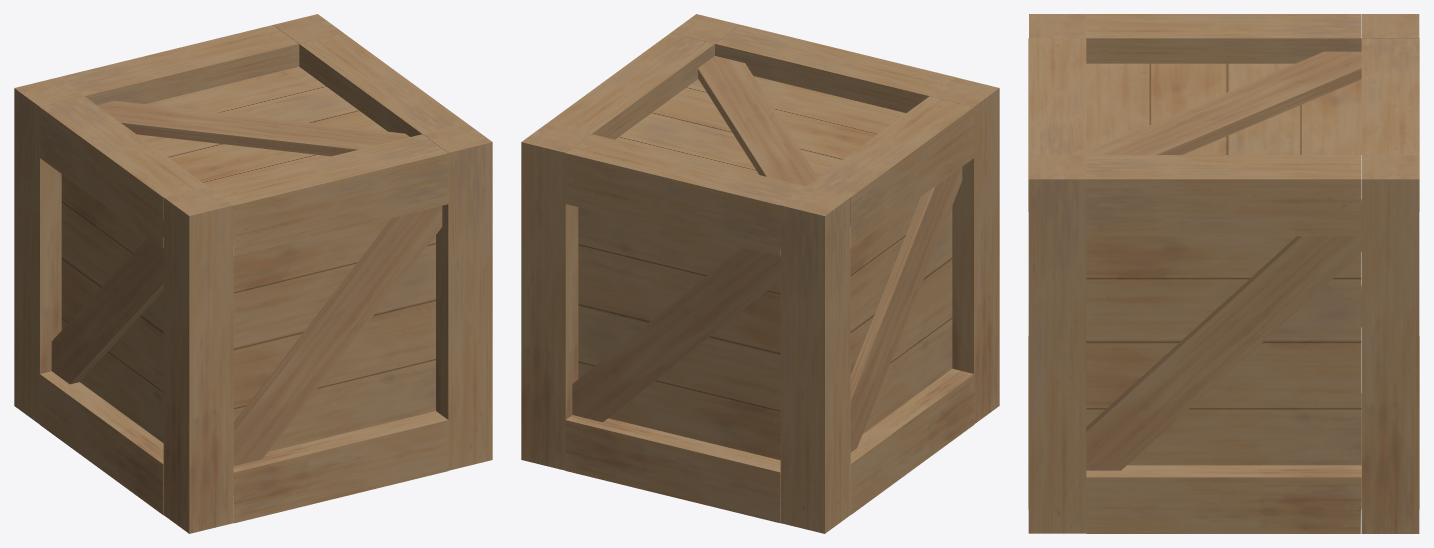
File: md_woodenBox2.fbx
The picture shows the model from 3 angles, left to right: view 1: azimuth 30°, elevation 25°; view 2: azimuth 150°, elevation 25°; view 3: azimuth 270°, elevation 25°; orthographic projection. The views are drawn at different scales.
Parts seen in each view (by area): view 1: _MT_0010, _MT_004, _MT_003, _MT_008, _MT_001, _MT_009, _MT_007, _MT_002; view 2: _MT_0010, _MT_001, _MT_002, _MT_004, _MT_005, _MT_007, _MT_009, _MT_003; view 3: _MT_0010, _MT_003, _MT_002, _MT_006, _MT_009, _MT_004, _MT_001.
Boxes of the visible parts, x1,y1,x2,y2 form: _MT_0010: (40, 25, 466, 523); _MT_004: (163, 186, 233, 533); _MT_003: (423, 123, 492, 470); _MT_008: (233, 206, 442, 495); _MT_001: (14, 77, 83, 424); _MT_009: (97, 100, 409, 156); _MT_007: (51, 221, 163, 384); _MT_002: (273, 14, 343, 43); _MT_0010: (547, 25, 974, 523); _MT_001: (780, 186, 850, 533); _MT_002: (521, 123, 591, 470); _MT_004: (930, 77, 999, 423); _MT_005: (572, 217, 780, 422); _MT_007: (850, 167, 962, 452); _MT_009: (698, 56, 817, 207); _MT_003: (671, 14, 740, 43); _MT_0010: (1028, 14, 1419, 533); _MT_003: (1028, 155, 1086, 533); _MT_002: (1362, 155, 1419, 533); _MT_006: (1086, 199, 1361, 470); _MT_009: (1086, 51, 1361, 154); _MT_004: (1029, 14, 1086, 38); _MT_001: (1362, 14, 1419, 38).
Size of the model in its own units: 7 by 7 by 7.
1 material, 1 textured.
